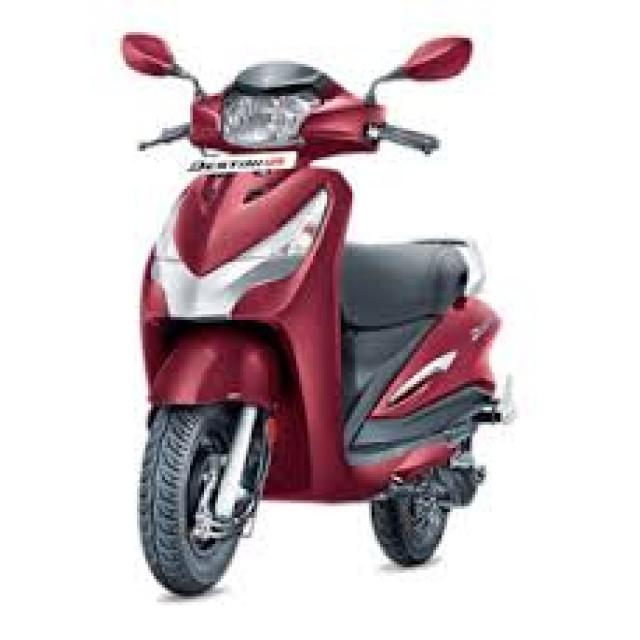Bike: (120, 32, 520, 599)
